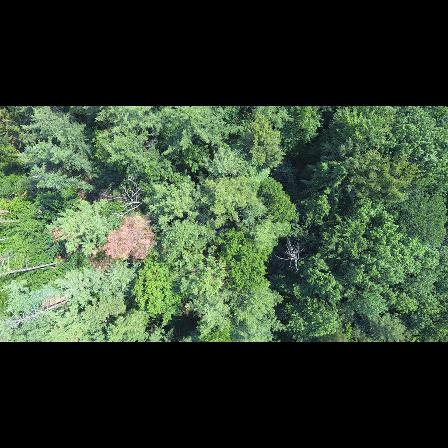Dead: (102, 178, 147, 219), (273, 234, 308, 274)
